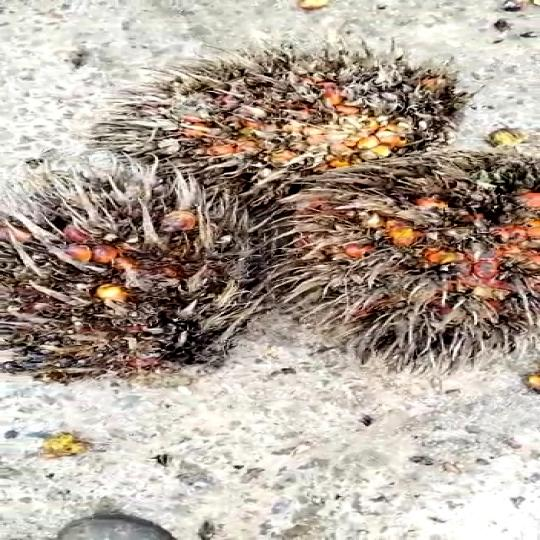terlalu masak: (73, 39, 477, 190), (0, 177, 291, 380), (285, 139, 540, 361)
